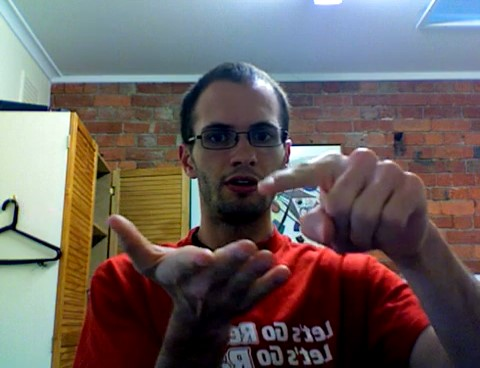I: (80, 140, 436, 319)
